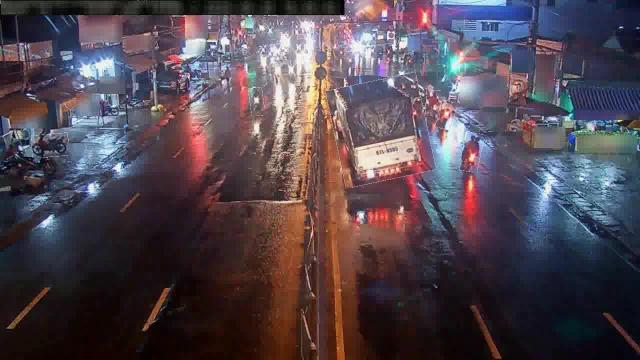Bike: (461, 132, 483, 172), (32, 133, 68, 157), (437, 100, 455, 130), (250, 88, 264, 116), (426, 90, 440, 115)
Truck: (331, 76, 432, 184)
